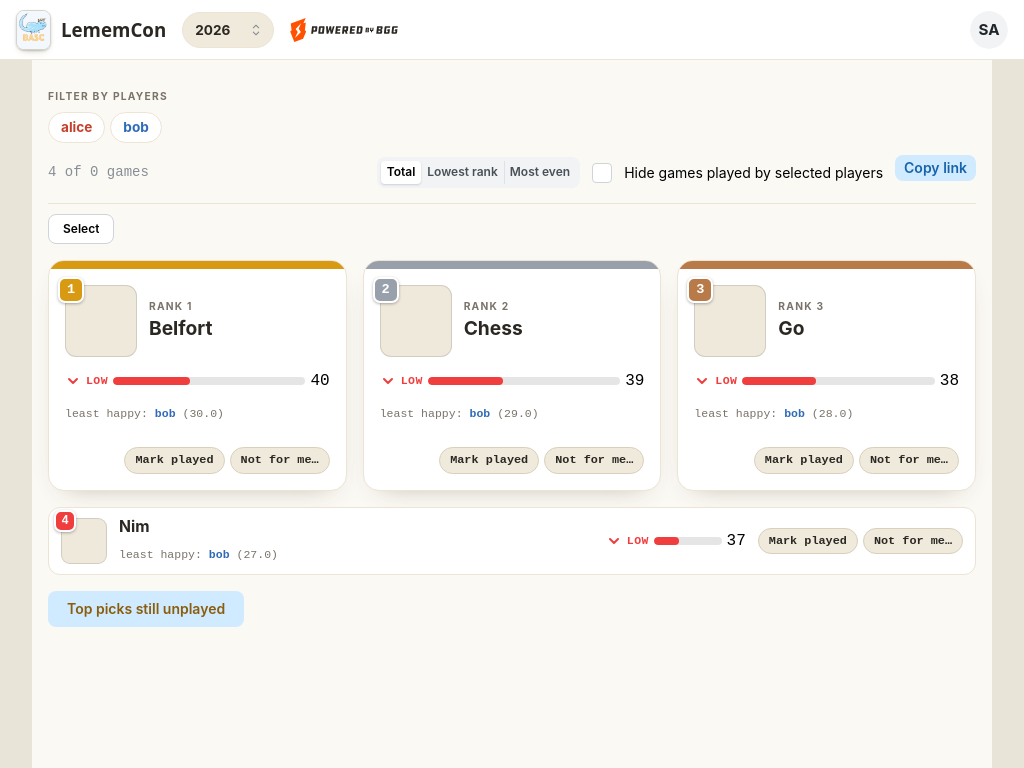
Test case: Scoreboard › member vetoes › undo bar › ignores a veto that resolves after a newer one
Click the button "Not for me…" in the row of "37" at (913, 541), box [863, 528, 963, 554]
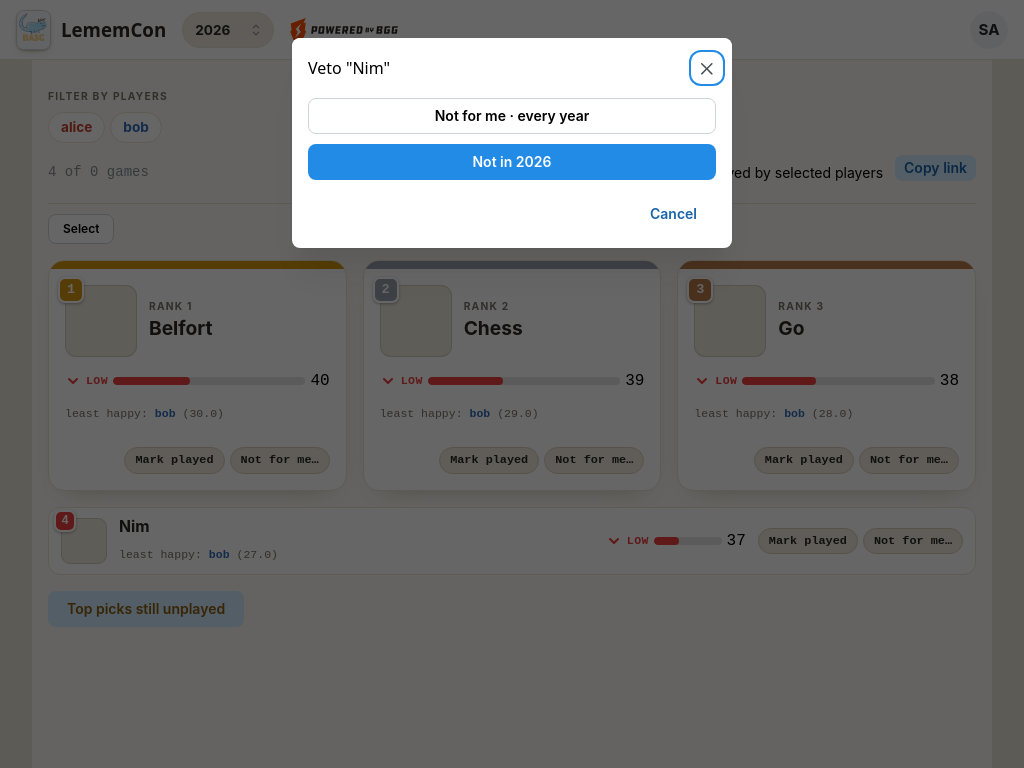
Click the button "Not for me · every year" at (512, 116), box [308, 98, 716, 134]
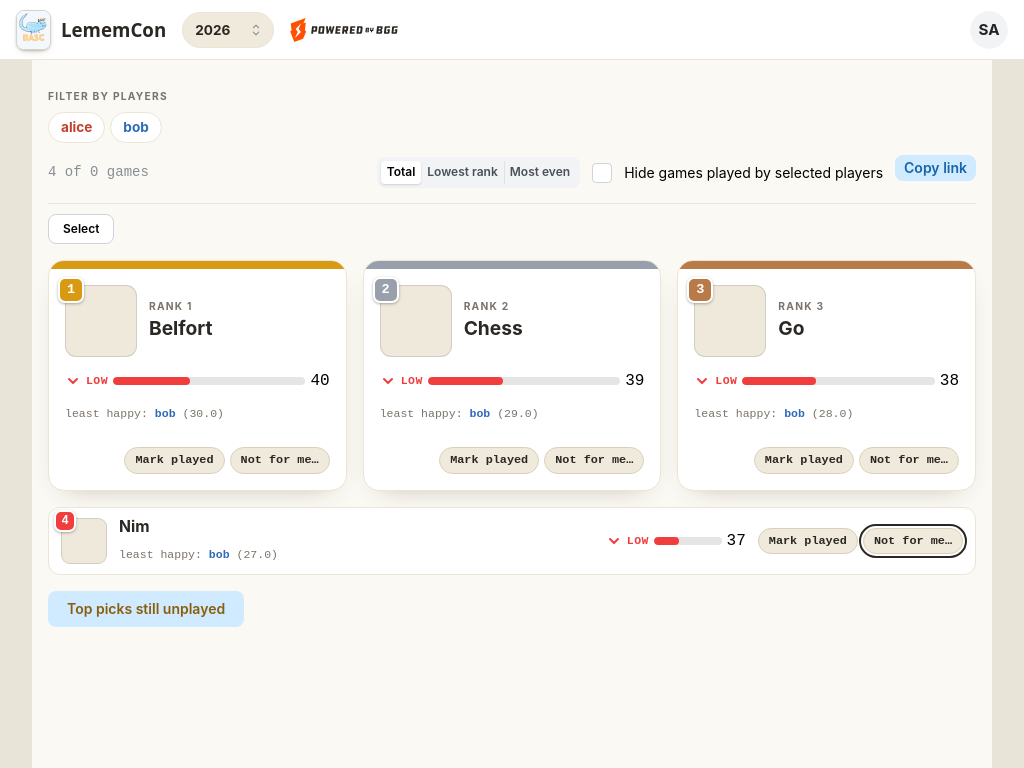
Click the button "Not for me…" below "28.0" at (909, 461), box [859, 447, 959, 474]
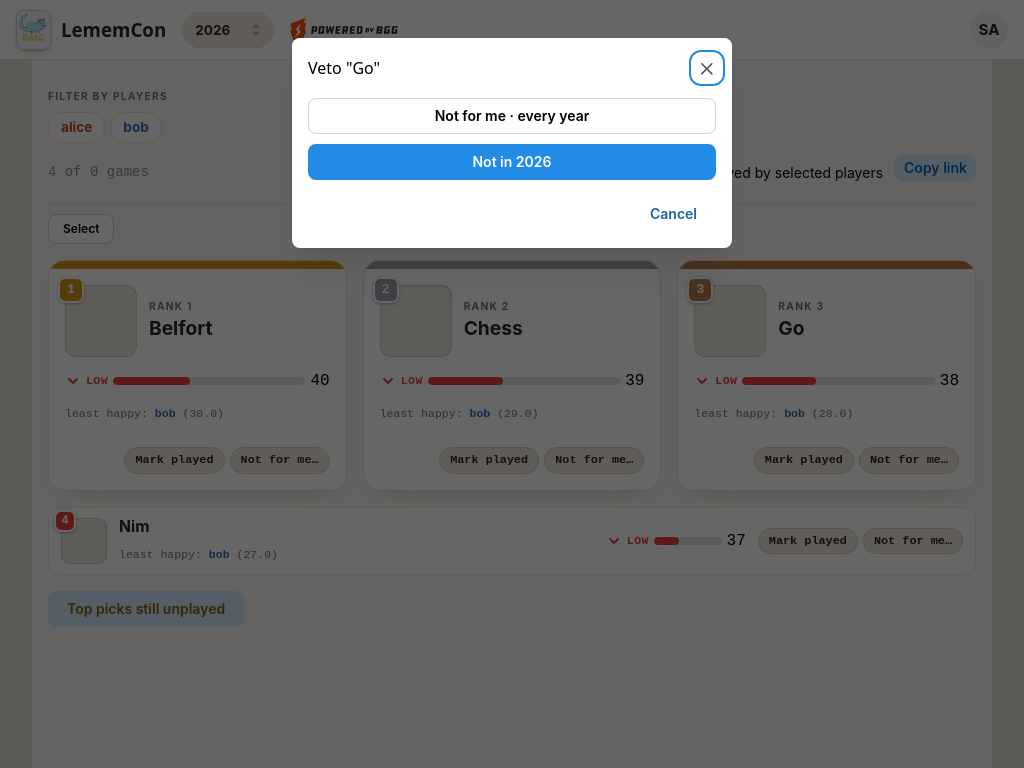
Click the button "Not for me · every year" at (512, 116), box [308, 98, 716, 134]
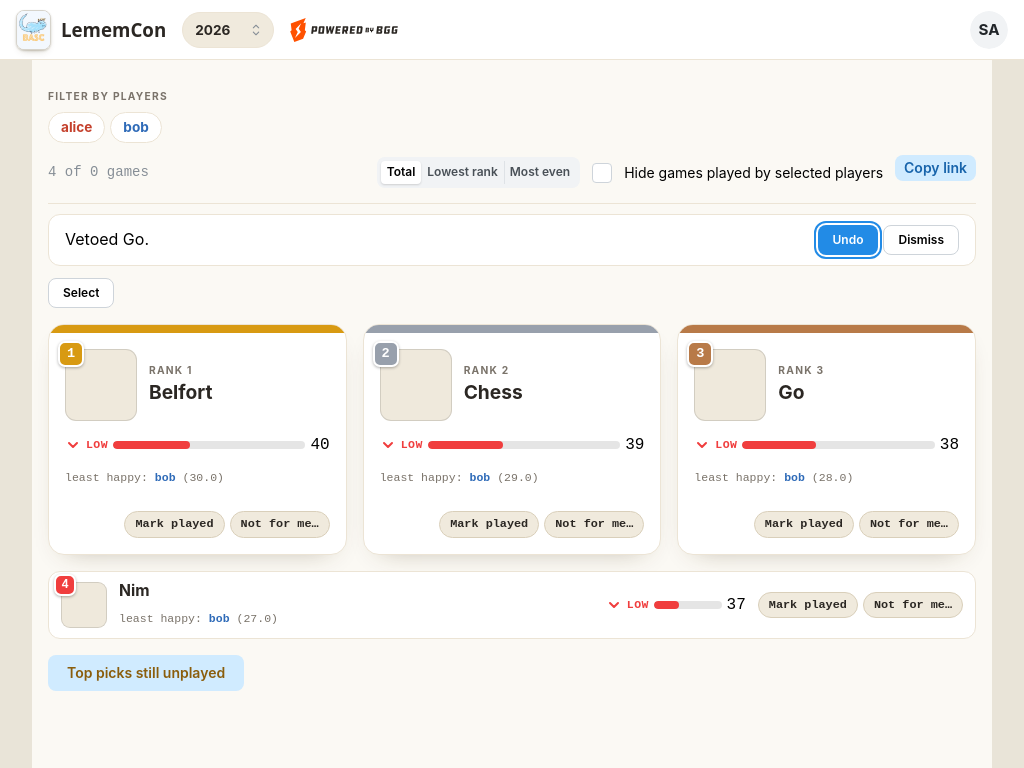
Check: the message does not show "Nim", box [48, 214, 976, 266]
Check: the message shows "Vetoed Go.", box [48, 214, 976, 266]
